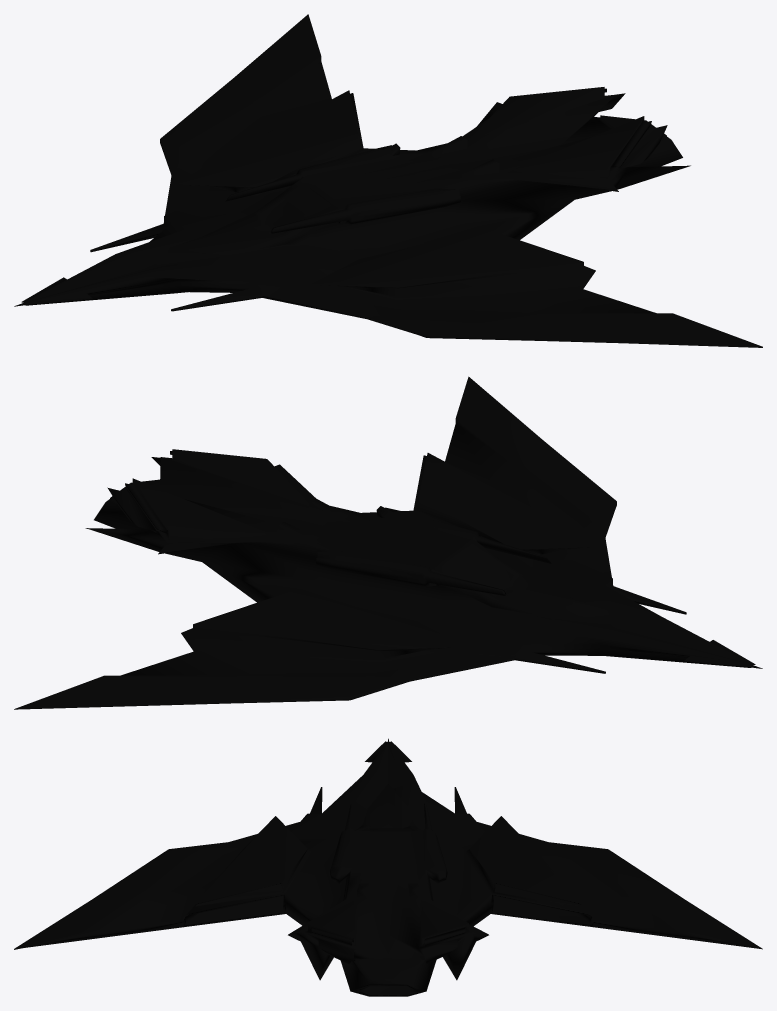
Rendered from jet_by_dommk.obj.
3 renders of one model, top to bottom at view 1: azimuth 30°, elevation 25°; view 2: azimuth 150°, elevation 25°; view 3: azimuth 270°, elevation 25°, orthographic. The views are drawn at different scales.
Parts seen in each view (by area): view 1: jet; view 2: jet; view 3: jet.
Boxes of the visible parts, x1,y1,x2,y2 form: jet: (14, 14, 762, 347); jet: (14, 376, 762, 709); jet: (14, 738, 762, 996).
Bounding box in the file's own units: 1966 × 201 × 2396.
